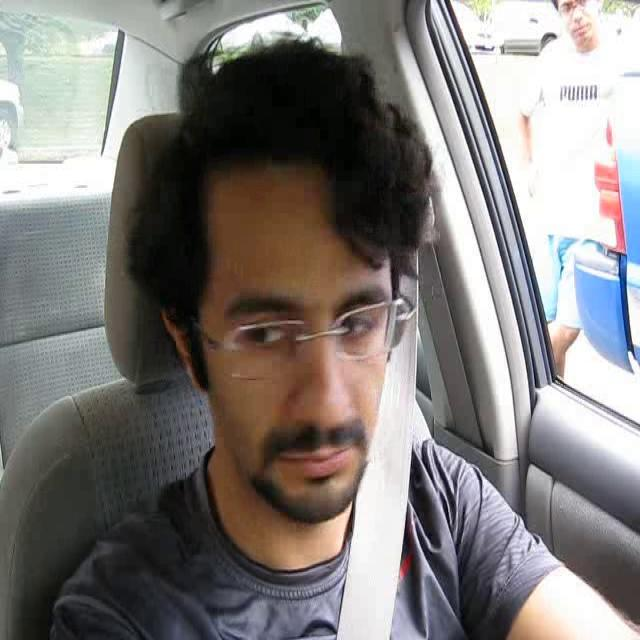close: (270, 434, 361, 482)
